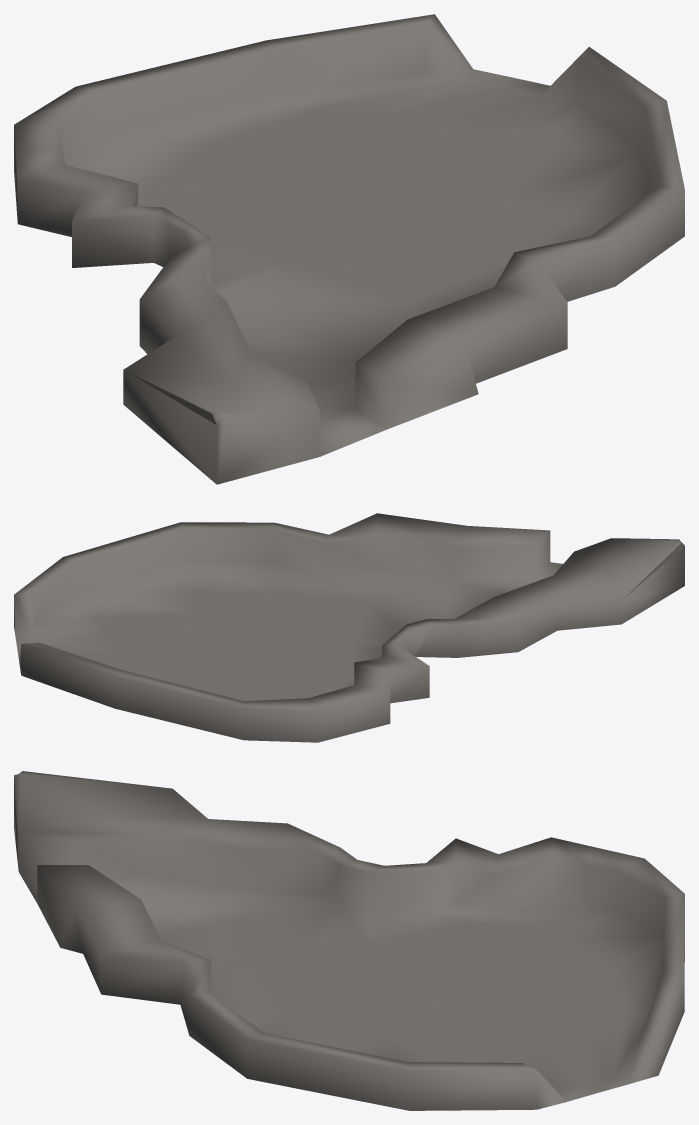
The model's file is cave.obj.
3 views of the same model, one above another, from view 1: azimuth 30°, elevation 25°; view 2: azimuth 150°, elevation 25°; view 3: azimuth 270°, elevation 25° (orthographic). The views are drawn at different scales.
Visible parts, largest first — view 1: cave_Main_Geometry.004; view 2: cave_Main_Geometry.004; view 3: cave_Main_Geometry.004.
Boxes of the visible parts, x1,y1,x2,y2 form: cave_Main_Geometry.004: [14, 14, 684, 484]; cave_Main_Geometry.004: [14, 513, 684, 742]; cave_Main_Geometry.004: [14, 771, 684, 1110].
Bounding box in the file's own units: 30.68 × 3.01 × 30.76.
